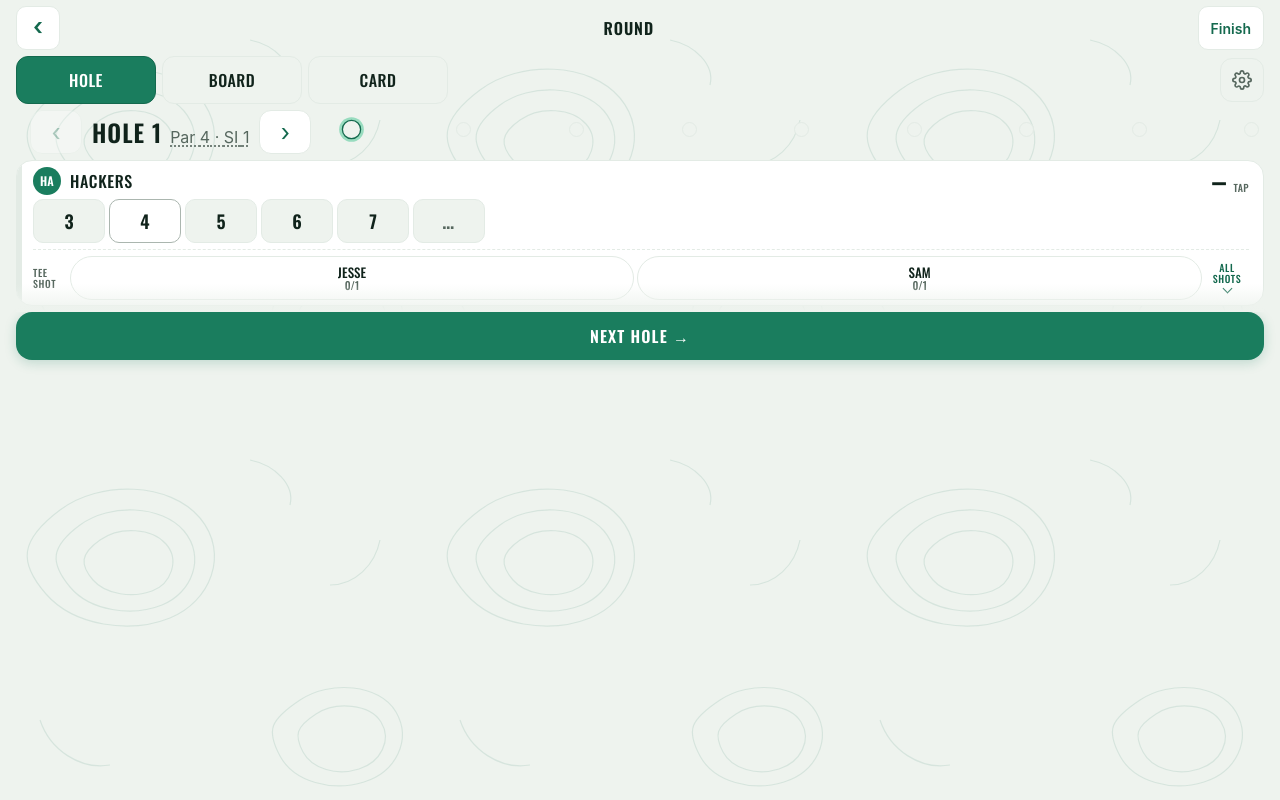
the Board tab › follows the Scramble board with the tee shots, and has no money card for one team
Click the button "Board" at (232, 80), box x1=162 y1=56 x2=302 y2=104
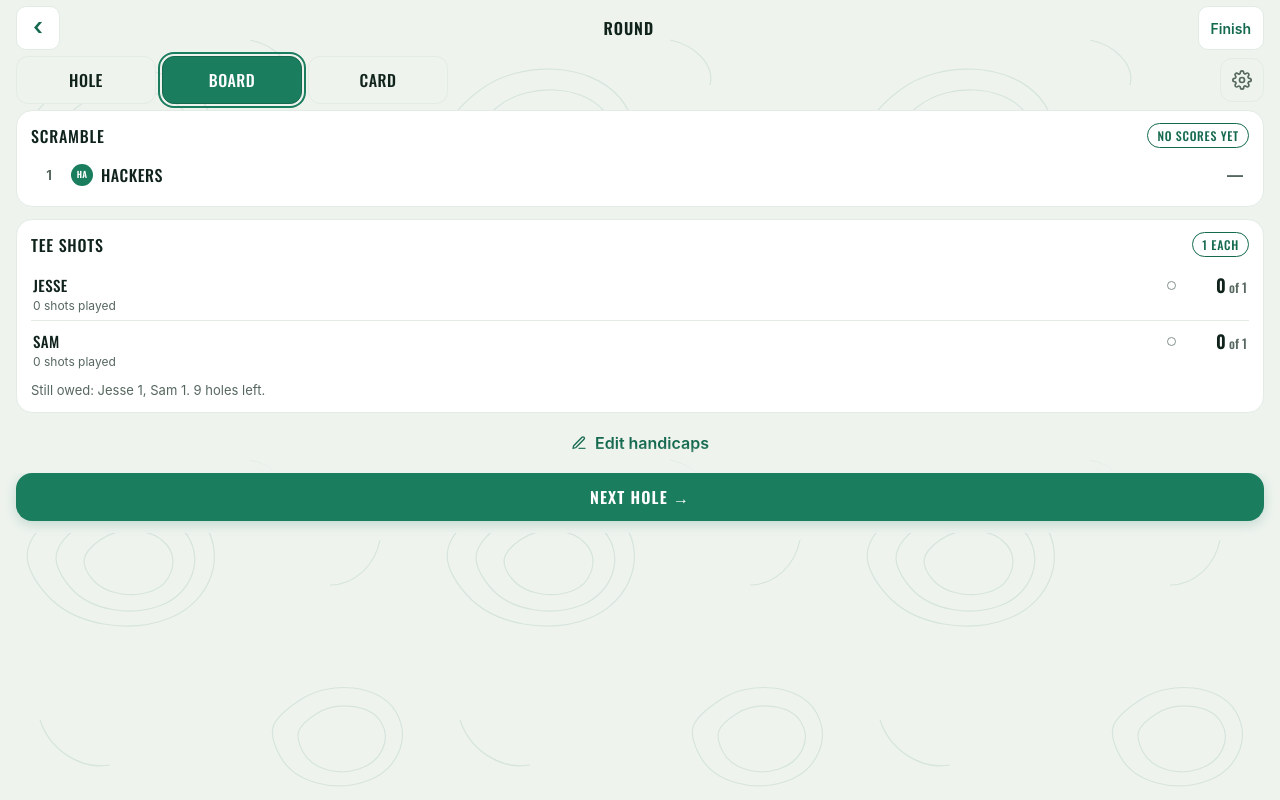
Result: the element "Tee shots" is shown at x1=16 y1=219 x2=1264 y2=412
